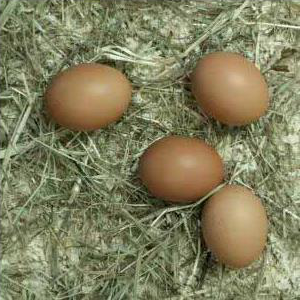egg: (43, 64, 134, 132), (192, 51, 271, 127), (140, 135, 225, 203), (201, 185, 268, 270)
